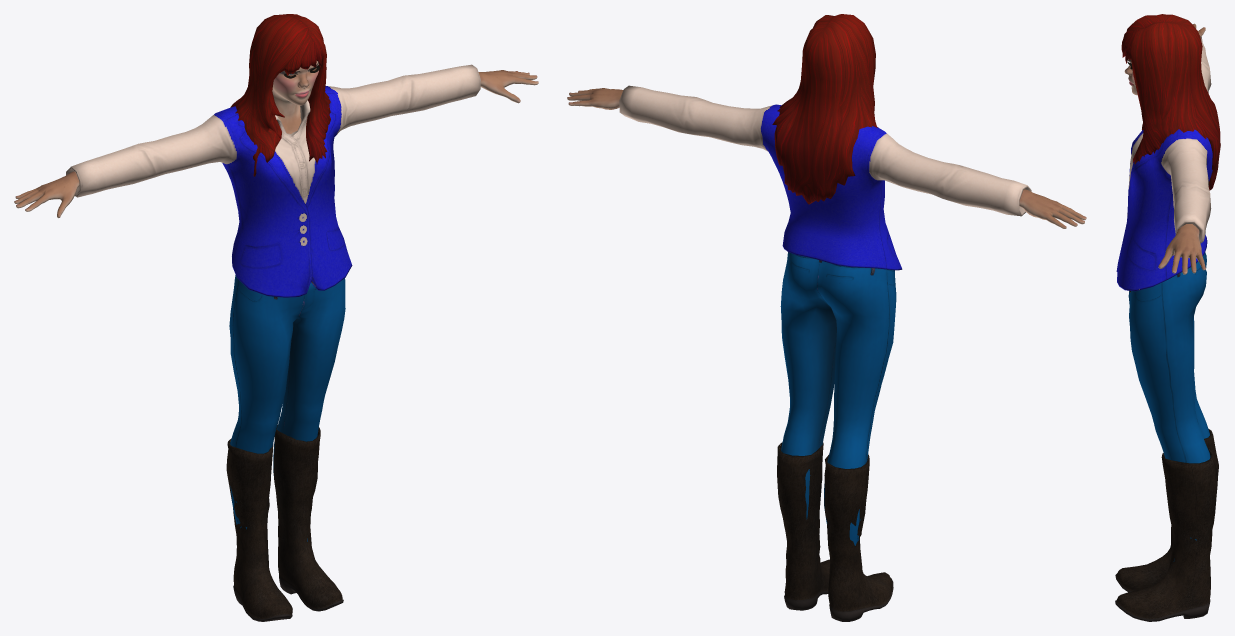
File: Mist.obj
3 views of the same model, side by side, from view 1: azimuth 30°, elevation 25°; view 2: azimuth 150°, elevation 25°; view 3: azimuth 270°, elevation 25° (orthographic).
Visible parts, largest first — view 1: Tops, Bottoms, Shoes, Hair, Body; view 2: Tops, Bottoms, Hair, Shoes, Body; view 3: Bottoms, Tops, Shoes, Hair, Body.
Boxes of the visible parts, x1,y1,x2,y2 form: Tops: [66, 64, 480, 297]; Bottoms: [229, 275, 345, 541]; Shoes: [226, 425, 343, 621]; Hair: [230, 14, 330, 176]; Body: [14, 61, 538, 218]; Tops: [619, 85, 1031, 270]; Bottoms: [780, 252, 896, 545]; Hair: [772, 14, 877, 204]; Shoes: [777, 442, 893, 621]; Body: [567, 88, 1086, 228]; Bottoms: [1128, 252, 1210, 561]; Tops: [1116, 36, 1212, 291]; Shoes: [1115, 429, 1218, 621]; Hair: [1121, 14, 1220, 190]; Body: [1124, 23, 1205, 274].
Size of the model in its own units: 173 by 187 by 30.54.
4 materials, 4 textured.
